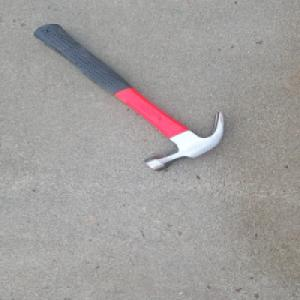Hammer: (41, 23, 228, 172)
